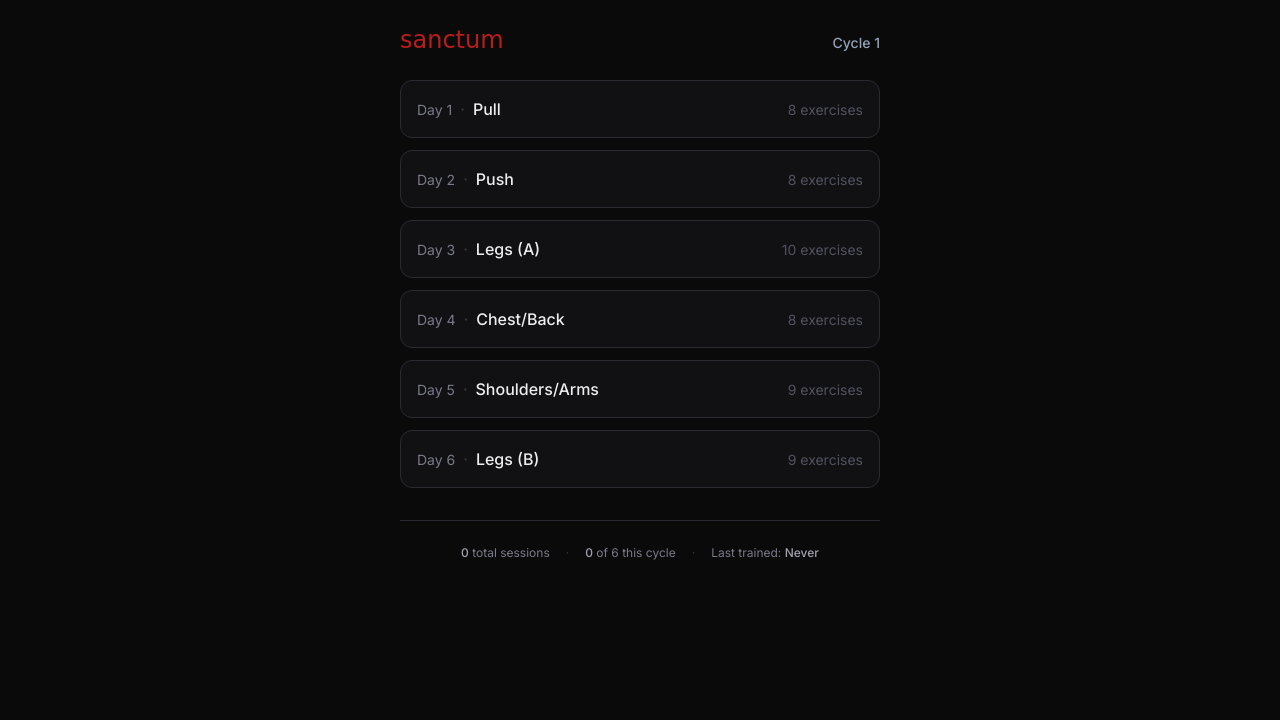
Scenario: Dashboard › opens workout preview when a DayCard is clicked
This screenshot has width=1280, height=720.
// First button is Day 1 card (deload button not rendered by default)
Click the button "Day 1 · Pull 8 exercises" at (830, 110), box [400,80,880,138]
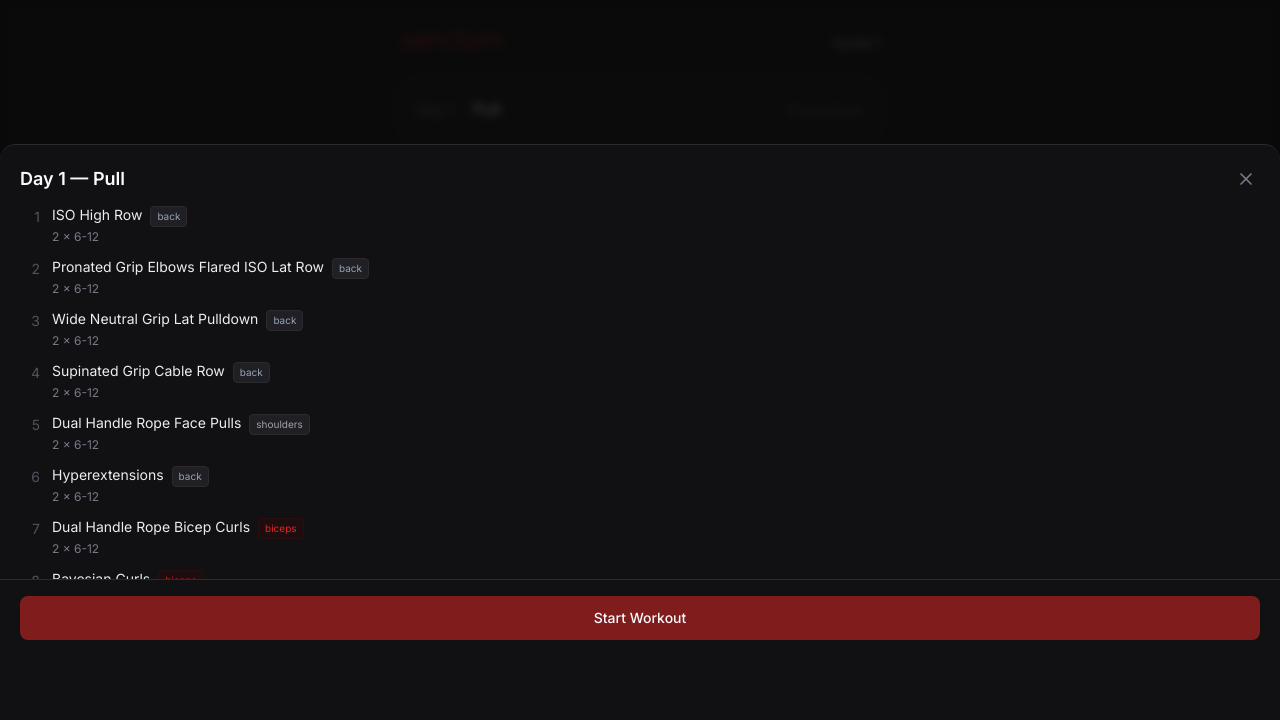
Result: the dialog is shown
Result: the heading "Day 1 — Pull" is shown at [20,165,125,193]
